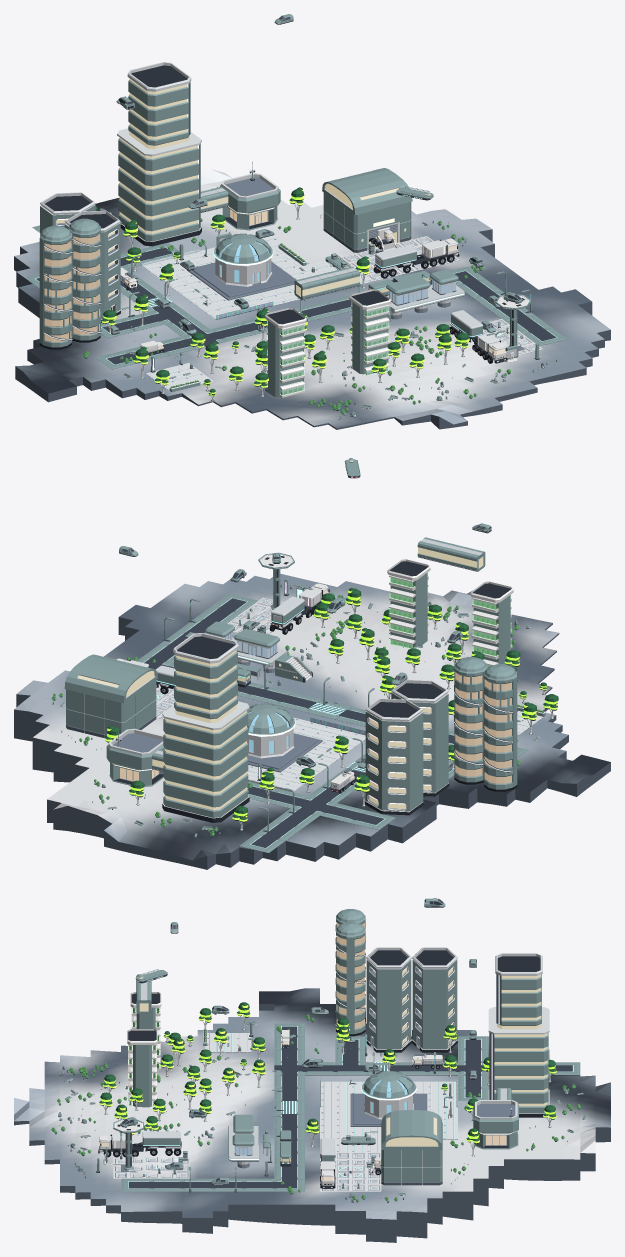
File: city.glb
3 renders of one model, top to bottom at view 1: azimuth 30°, elevation 25°; view 2: azimuth 150°, elevation 25°; view 3: azimuth 270°, elevation 25°, orthographic. The views are drawn at different scales.
Parts seen in each view (by area): view 1: object 1, platform, vertical-farm-tower (×2), hangar-shell, pavilion, object 6, podium-shell, object 10, object 13, station-module (×2), object 2, object 7; view 2: object 1, platform, vertical-farm-tower (×2), hangar-shell, object 6, pavilion, object 10, podium-shell, object 13, object 2, station-module, object 7; view 3: platform, object 1, hangar-shell, vertical-farm-tower (×2), pavilion, object 13, podium-shell, object 6, object 2, station-module (×2), object 10, glazing.
Part boxes in pixels (left/top/right/bottom): object 1: left=25, top=14, right=567, bottom=419; platform: left=14, top=169, right=610, bottom=429; vertical-farm-tower (×2): left=265, top=289, right=391, bottom=398; hangar-shell: left=322, top=168, right=412, bottom=252; pavilion: left=187, top=233, right=296, bottom=300; object 6: left=56, top=78, right=197, bottom=310; podium-shell: left=219, top=173, right=280, bottom=230; object 10: left=44, top=233, right=99, bottom=341; object 13: left=101, top=190, right=469, bottom=396; station-module (×2): left=386, top=269, right=464, bottom=319; object 2: left=35, top=238, right=557, bottom=386; object 7: left=200, top=197, right=430, bottom=296; object 1: left=46, top=458, right=558, bottom=853; platform: left=14, top=573, right=610, bottom=869; vertical-farm-tower (×2): left=387, top=559, right=513, bottom=667; hangar-shell: left=64, top=654, right=157, bottom=738; object 6: left=164, top=650, right=431, bottom=810; pavilion: left=247, top=703, right=322, bottom=772; object 10: left=455, top=672, right=511, bottom=783; podium-shell: left=106, top=728, right=164, bottom=787; object 13: left=105, top=590, right=557, bottom=821; object 2: left=143, top=597, right=542, bottom=848; station-module: left=234, top=629, right=287, bottom=672; object 7: left=152, top=547, right=483, bottom=767; platform: left=14, top=988, right=610, bottom=1242; object 1: left=51, top=898, right=587, bottom=1204; hangar-shell: left=381, top=1110, right=442, bottom=1185; vertical-farm-tower (×2): left=127, top=992, right=161, bottom=1107; pavilion: left=350, top=1071, right=427, bottom=1126; object 13: left=99, top=1005, right=556, bottom=1143; podium-shell: left=473, top=1100, right=518, bottom=1149; object 6: left=373, top=968, right=547, bottom=1106; object 2: left=118, top=1026, right=573, bottom=1188; station-module (×2): left=228, top=1114, right=258, bottom=1168; object 10: left=336, top=922, right=364, bottom=1028; glazing: left=385, top=1117, right=438, bottom=1146.
Bounding box in the file's own units: 140 × 63.22 × 156.
